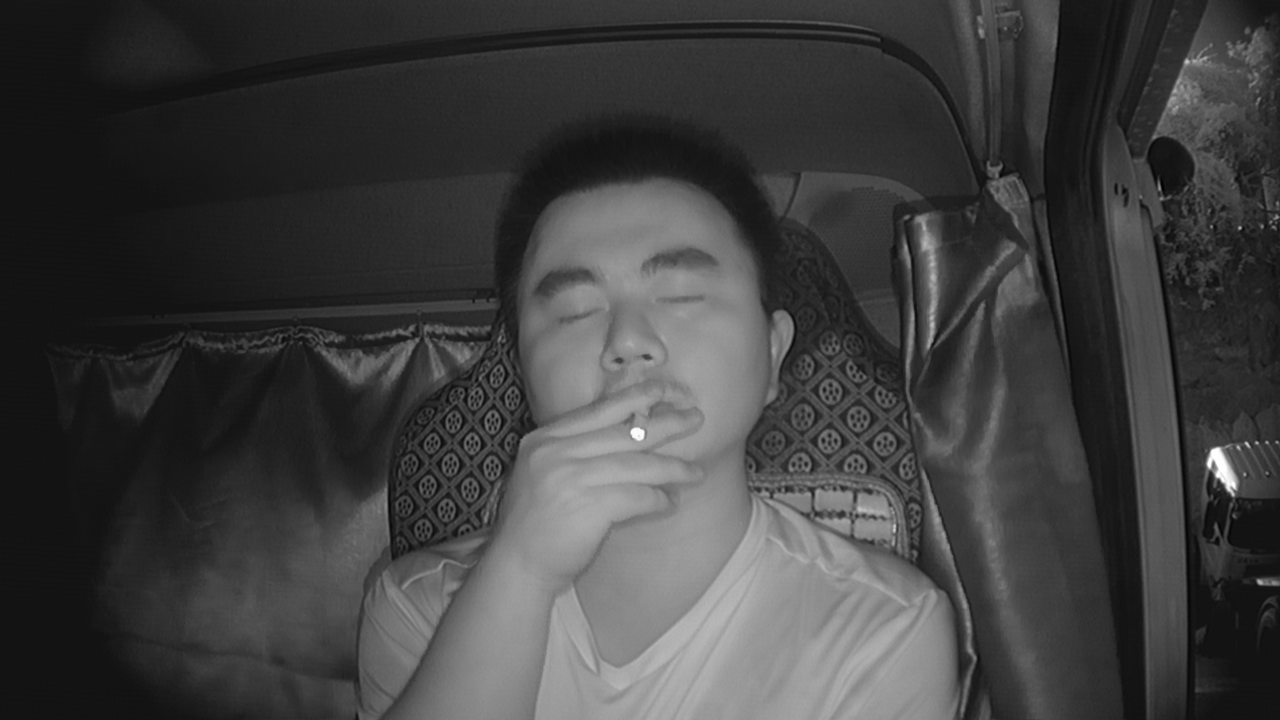hand: (560, 378, 705, 534)
